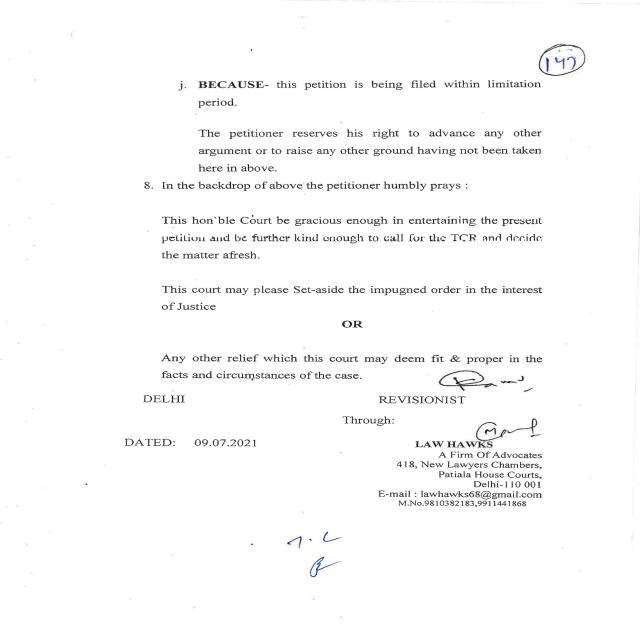page-number: (493, 0, 640, 80)
